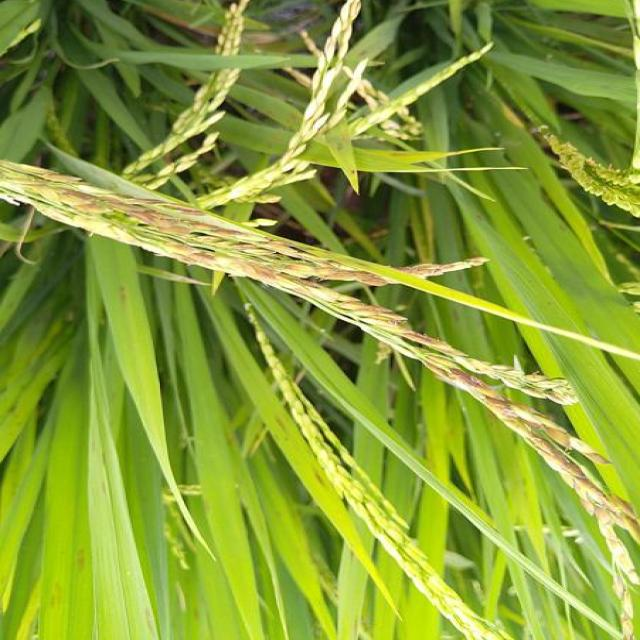Panicle Blight: (416, 361, 571, 447), (527, 439, 640, 548), (62, 190, 236, 238), (282, 255, 387, 286), (607, 540, 633, 640), (331, 300, 409, 327), (395, 256, 490, 276), (166, 245, 224, 270), (402, 333, 464, 355), (338, 1, 361, 58), (1, 173, 81, 184), (234, 262, 276, 280), (286, 279, 323, 299), (231, 241, 287, 251), (585, 453, 610, 464)
